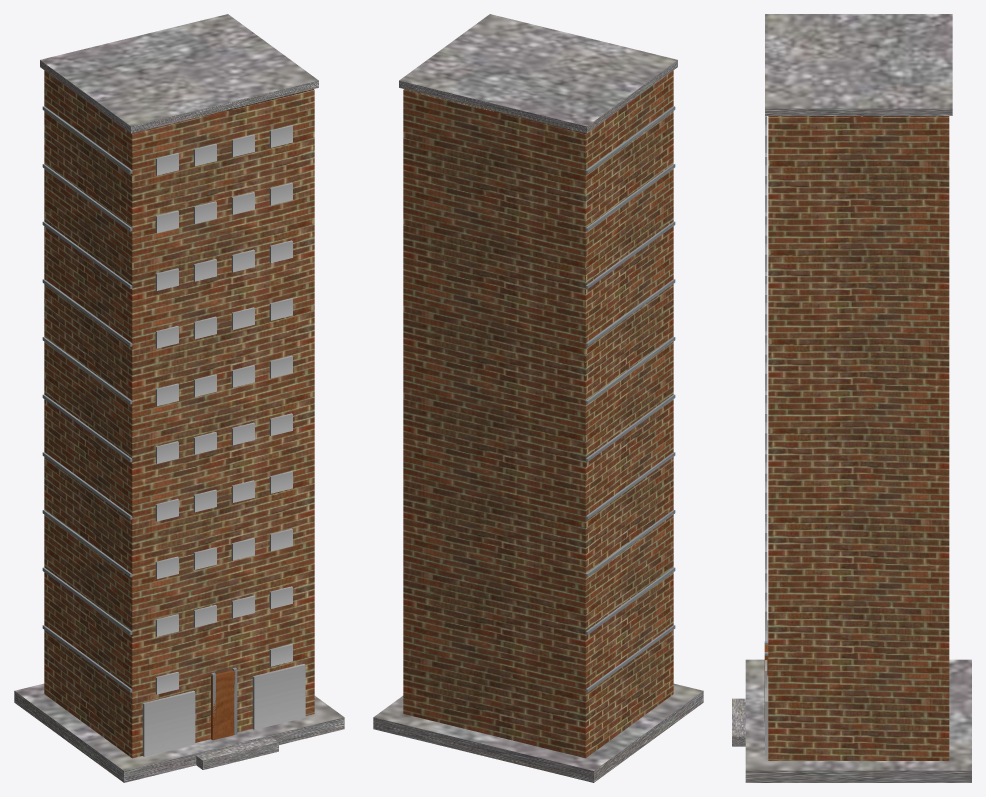
File: Edificioladrillo.fbx
3 views of the same model, side by side, from view 1: azimuth 30°, elevation 25°; view 2: azimuth 150°, elevation 25°; view 3: azimuth 270°, elevation 25° (orthographic). The views are drawn at different scales.
Visible parts, largest first — view 1: Edificio, Bases, Ventanas, Vitrinas, Detalles, Puerta_Principal; view 2: Edificio, Bases, Detalles; view 3: Edificio, Bases, Ventanas.
Part boxes in pixels (box(x1,y1,x2,y2)): Edificio: box(44, 70, 314, 758); Bases: box(14, 14, 344, 782); Ventanas: box(155, 125, 292, 694); Vitrinas: box(142, 664, 305, 756); Detalles: box(42, 106, 132, 692); Puerta_Principal: box(211, 670, 235, 740); Edificio: box(403, 70, 673, 758); Bases: box(373, 14, 703, 782); Detalles: box(585, 106, 675, 692); Edificio: box(768, 116, 949, 760); Bases: box(732, 14, 971, 782); Ventanas: box(765, 116, 767, 688).
Bounding box in the file's own units: 580 × 1629 × 530.
Materials: 7 (7 with a texture image).
